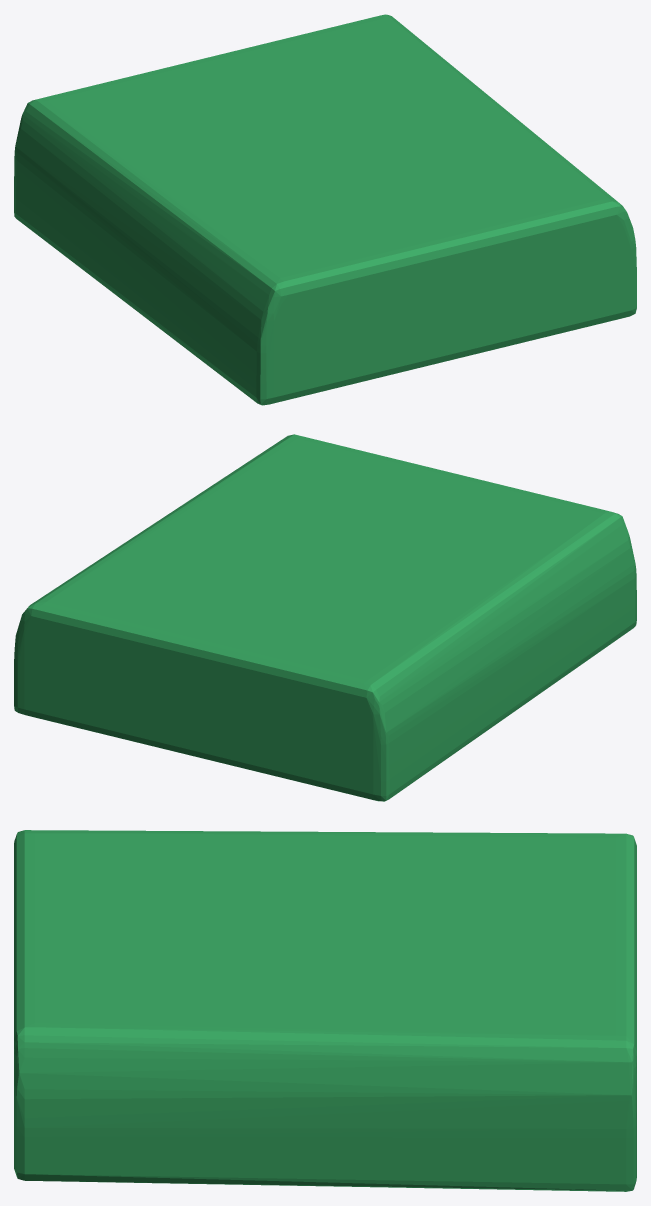
File: right_shoulder_yaw_link_part_10.obj
The picture shows the model from 3 angles, top to bottom: view 1: azimuth 30°, elevation 25°; view 2: azimuth 150°, elevation 25°; view 3: azimuth 270°, elevation 25°; orthographic projection. The views are drawn at different scales.
Bounding box in the file's own units: 0.0559 × 0.0161 × 0.0627.
